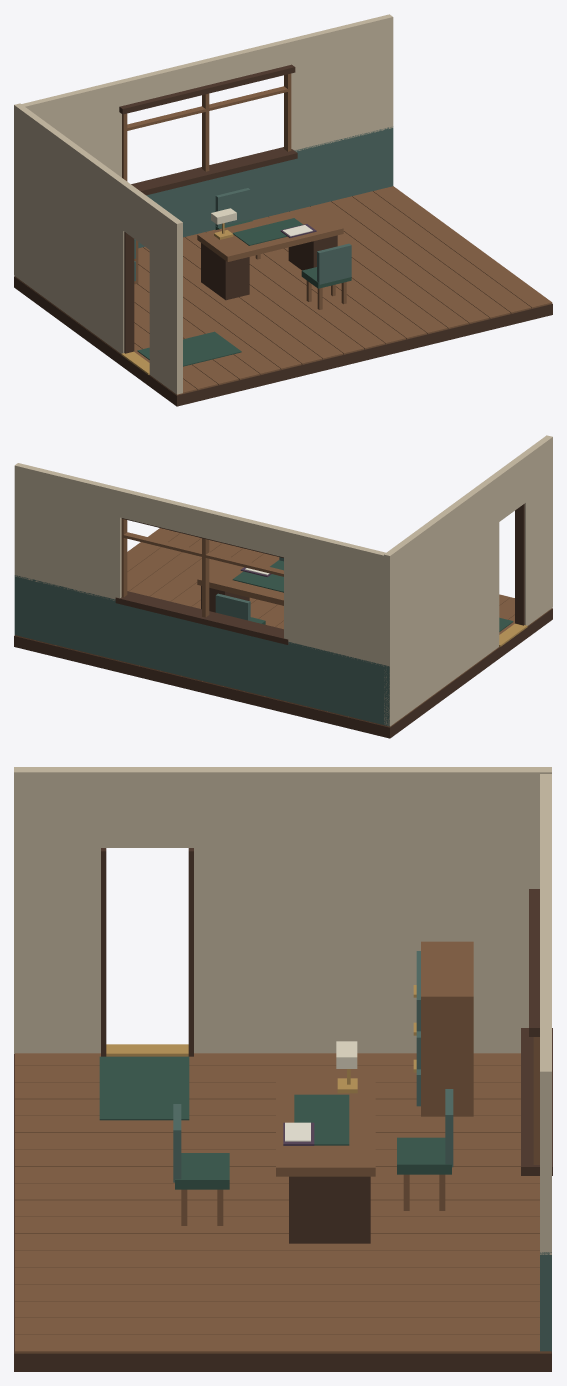
Rendered from jackson-executive-office.glb.
The picture shows the model from 3 angles, top to bottom: view 1: azimuth 30°, elevation 25°; view 2: azimuth 150°, elevation 25°; view 3: azimuth 270°, elevation 25°; orthographic projection. The views are drawn at different scales.
Parts seen in each view (by area): view 1: Service side, North wall lower rail, North wall above window, North wall pier.001, Floor slab, Hinge side, Oak floorboard 15, Oak floorboard 17, Oak floorboard 16, Oak floorboard 14, Executive desk top, Oak floorboard 05 (+26 smaller); view 2: North wall lower rail, Service side, North wall above window, North wall pier.001, North wall pier, Floor slab, Hinge side, Window sill, Executive desk top, Door header, Oak floorboard 15, Oak floorboard 14 (+10 smaller); view 3: Service side, Hinge side, Floor slab, Oak floorboard 17, Oak floorboard 12, Oak floorboard 13, Oak floorboard 14, Records cabinet, Oak floorboard 15, Oak floorboard 16, Oak floorboard 11, Oak floorboard 10 (+26 smaller).
Part boxes in pixels (<box>): Service side: <box>14,103,128,353</box>; North wall lower rail: <box>138,126,393,248</box>; North wall above window: <box>21,14,393,125</box>; North wall pier.001: <box>291,43,393,151</box>; Floor slab: <box>14,276,552,406</box>; Hinge side: <box>149,203,182,394</box>; Oak floorboard 15: <box>331,196,510,318</box>; Oak floorboard 17: <box>373,186,552,308</box>; Oak floorboard 16: <box>352,191,531,313</box>; Oak floorboard 14: <box>310,201,489,323</box>; Executive desk top: <box>197,206,343,261</box>; Oak floorboard 05: <box>138,247,301,369</box>; North wall lower rail: <box>14,575,389,726</box>; Service side: <box>384,475,499,726</box>; North wall above window: <box>14,463,389,583</box>; North wall pier.001: <box>14,491,121,600</box>; North wall pier: <box>284,557,389,666</box>; Floor slab: <box>14,608,552,738</box>; Hinge side: <box>520,435,552,625</box>; Window sill: <box>115,591,288,644</box>; Executive desk top: <box>197,561,283,605</box>; Door header: <box>493,455,525,521</box>; Oak floorboard 15: <box>56,538,222,650</box>; Oak floorboard 14: <box>77,543,242,655</box>; Service side: <box>191,767,551,1053</box>; Hinge side: <box>14,767,103,1053</box>; Floor slab: <box>14,1054,551,1371</box>; Oak floorboard 17: <box>15,1335,550,1353</box>; Oak floorboard 12: <box>15,1250,539,1267</box>; Oak floorboard 13: <box>15,1267,539,1284</box>; Oak floorboard 14: <box>15,1284,539,1301</box>; Records cabinet: <box>421,941,473,1116</box>; Oak floorboard 15: <box>15,1301,539,1317</box>; Oak floorboard 16: <box>15,1318,539,1334</box>; Oak floorboard 11: <box>15,1234,539,1250</box>; Oak floorboard 10: <box>15,1217,539,1233</box>.
Bounding box in the file's own units: 7.23 × 3.34 × 5.41.
